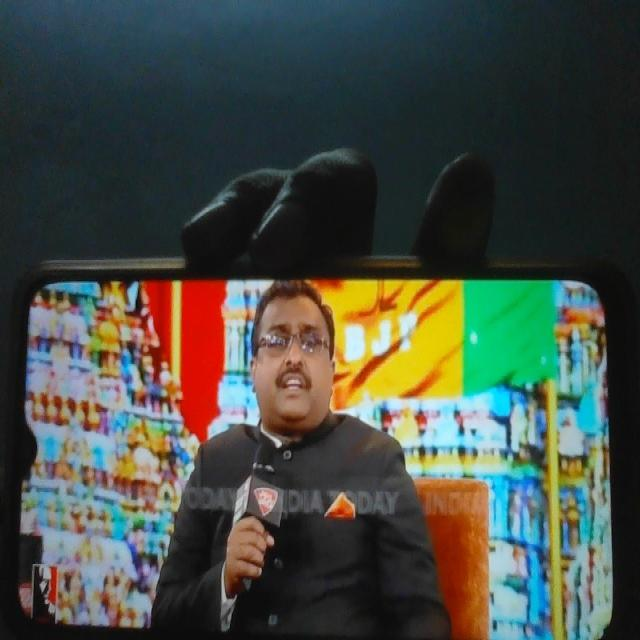fake: (240, 245, 346, 447)
